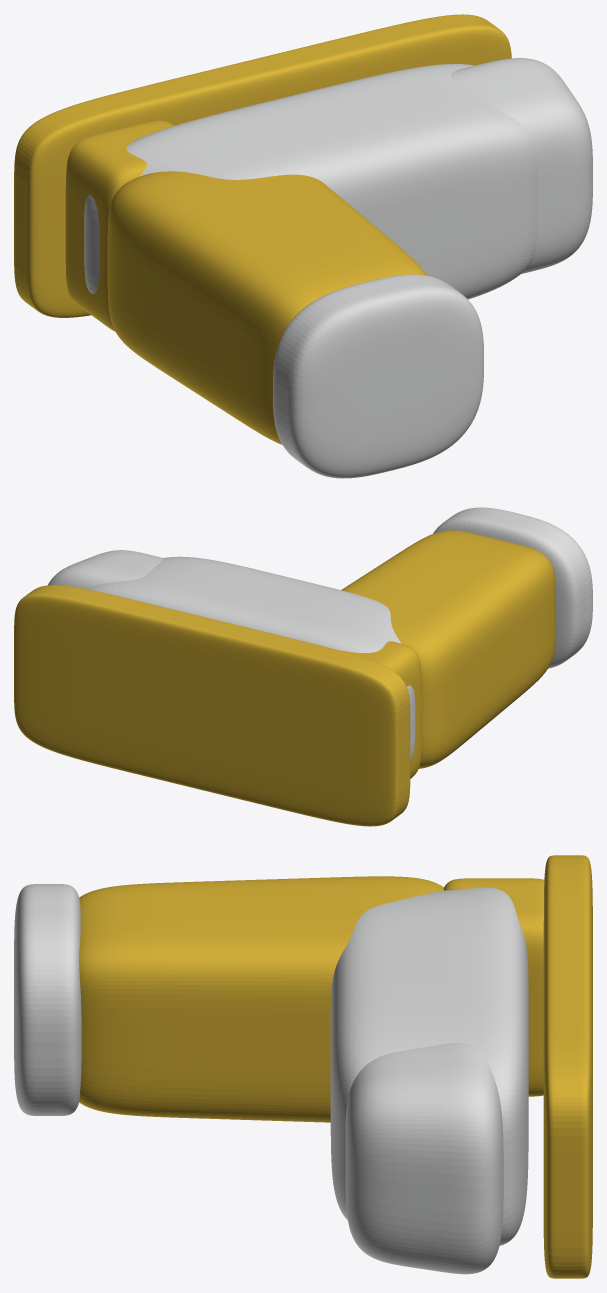
The model's file is leather_hiking_boot_sq.glb.
The picture shows the model from 3 angles, top to bottom: view 1: azimuth 30°, elevation 25°; view 2: azimuth 150°, elevation 25°; view 3: azimuth 270°, elevation 25°; orthographic projection. The views are drawn at different scales.
Parts seen in each view (by area): view 1: superquadric_0, superquadric_1, superquadric_5, superquadric_2, superquadric_3, superquadric_4; view 2: superquadric_2, superquadric_1, superquadric_0, superquadric_5, superquadric_3, superquadric_4; view 3: superquadric_1, superquadric_0, superquadric_3, superquadric_2, superquadric_5, superquadric_4.
Boxes of the visible parts, left/top/right/bottom form: superquadric_0: left=84, top=64, right=537, bottom=299; superquadric_1: left=107, top=171, right=426, bottom=444; superquadric_5: left=273, top=274, right=483, bottom=478; superquadric_2: left=14, top=14, right=511, bottom=317; superquadric_3: left=450, top=58, right=592, bottom=273; superquadric_4: left=65, top=120, right=174, bottom=331; superquadric_2: left=14, top=585, right=410, bottom=826; superquadric_1: left=341, top=530, right=555, bottom=768; superquadric_0: left=88, top=556, right=415, bottom=760; superquadric_5: left=433, top=507, right=592, bottom=668; superquadric_3: left=48, top=550, right=163, bottom=589; superquadric_4: left=340, top=641, right=421, bottom=778; superquadric_1: left=79, top=876, right=443, bottom=1122; superquadric_0: left=330, top=887, right=528, bottom=1245; superquadric_3: left=345, top=1042, right=503, bottom=1274; superquadric_2: left=543, top=855, right=592, bottom=1278; superquadric_5: left=14, top=884, right=81, bottom=1115; superquadric_4: left=443, top=878, right=544, bottom=1096.
Bounding box in the file's own units: 1 × 0.3881 × 0.9462.
